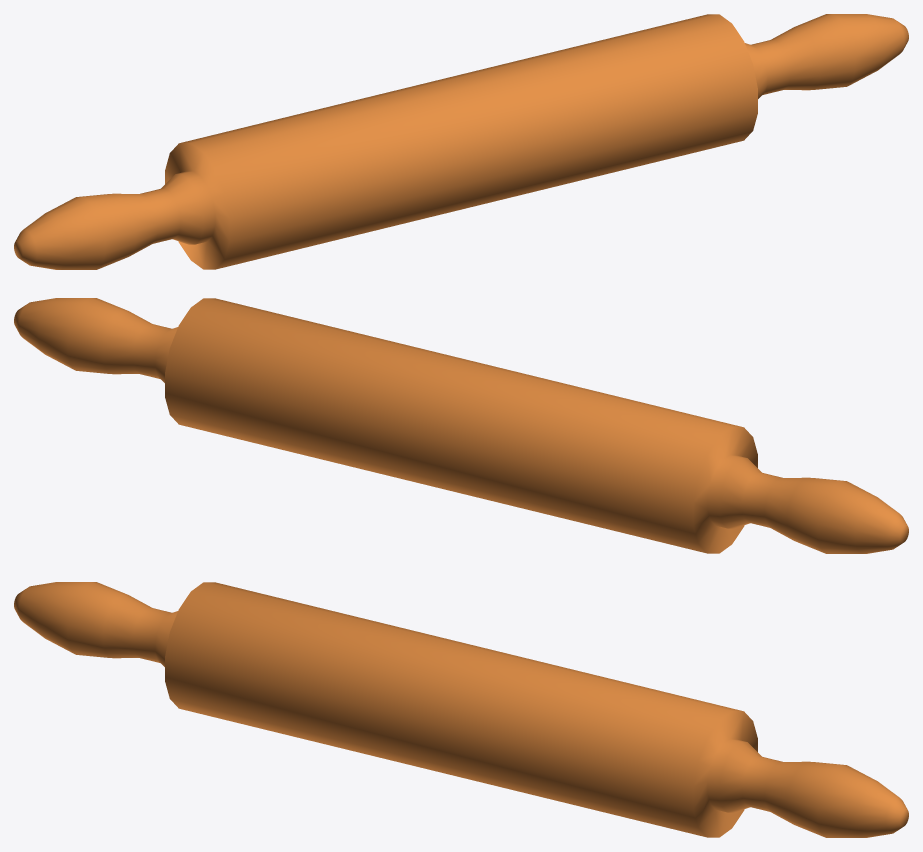
File: JustRollingPin.fbx
The picture shows the model from 3 angles, top to bottom: view 1: azimuth 30°, elevation 25°; view 2: azimuth 150°, elevation 25°; view 3: azimuth 330°, elevation 25°; orthographic projection.
Parts seen in each view (by area): view 1: LowPolyPin; view 2: LowPolyPin; view 3: LowPolyPin.
Part boxes in pixels (x1,y1,x2,y2): LowPolyPin: [14, 14, 908, 269]; LowPolyPin: [14, 298, 908, 553]; LowPolyPin: [14, 582, 908, 837].
Size of the model in its own units: 4211 by 533 by 533.
